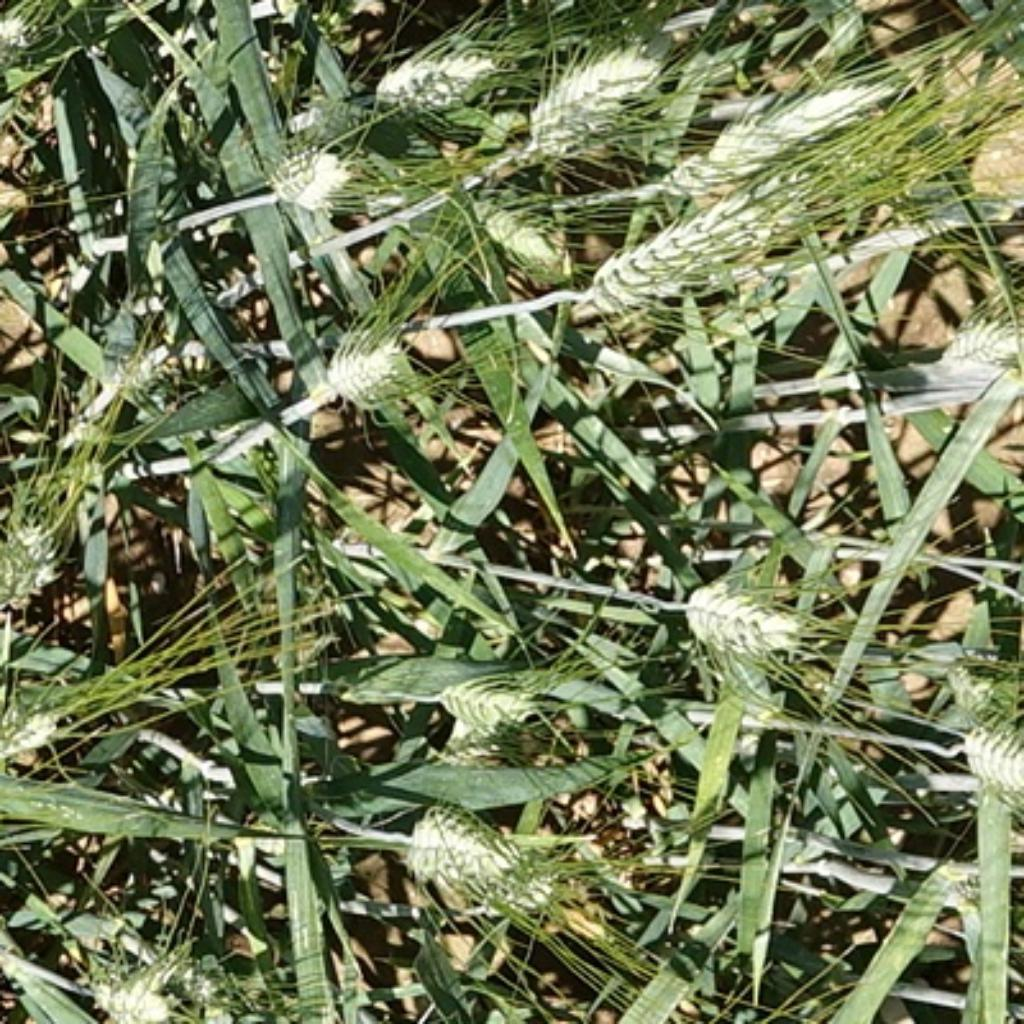0-0: (576, 161, 852, 325), (634, 66, 888, 212), (409, 798, 578, 913), (517, 25, 657, 158), (670, 560, 806, 665), (437, 176, 576, 276), (366, 30, 506, 117), (312, 317, 422, 409), (0, 678, 97, 775), (86, 950, 204, 1024), (930, 310, 1024, 402), (432, 665, 535, 744), (258, 133, 353, 209), (947, 709, 1021, 806), (0, 509, 64, 604), (926, 652, 1006, 719), (173, 955, 237, 1003), (0, 1, 32, 90), (0, 486, 5, 527)
